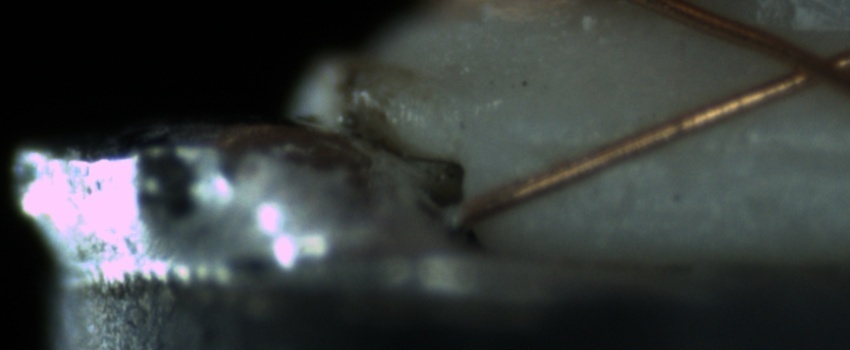CL: (762, 31, 847, 97)
DL: (534, 113, 850, 181)
